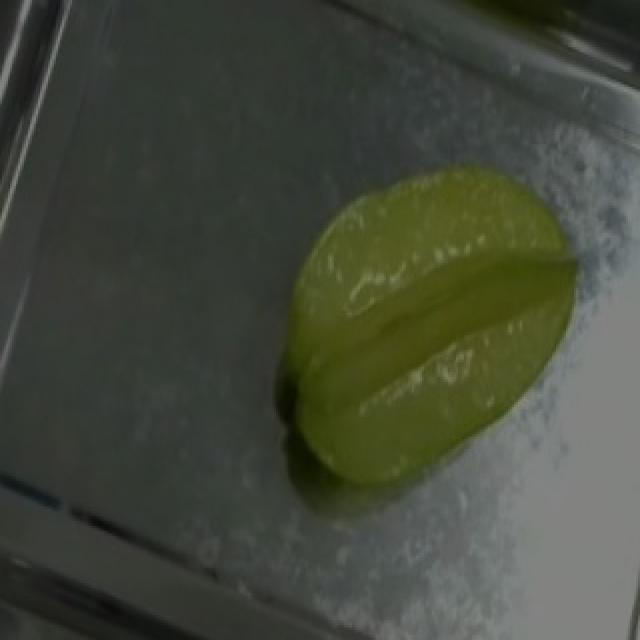fruit: (240, 116, 628, 504)
